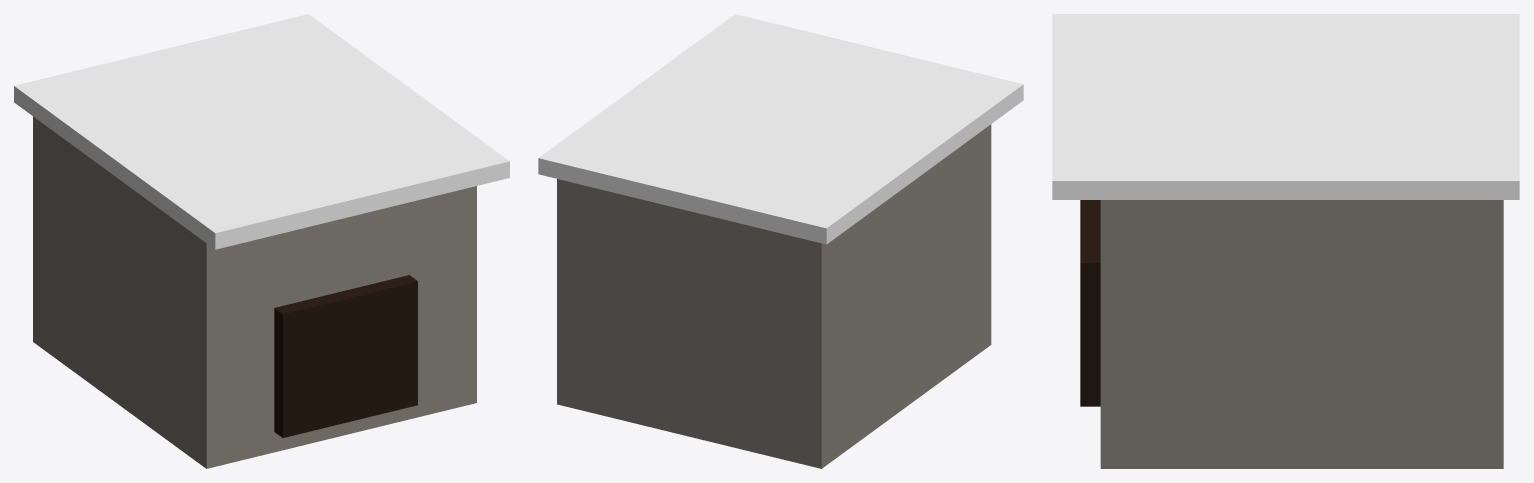
The model's file is fogon.glb.
3 views of the same model, side by side, from view 1: azimuth 30°, elevation 25°; view 2: azimuth 150°, elevation 25°; view 3: azimuth 270°, elevation 25° (orthographic). The views are drawn at different scales.
Parts seen in each view (by area): view 1: fogon; view 2: fogon; view 3: fogon.
Part boxes in pixels (x1,y1,x2,y2): fogon: (14, 14, 509, 468); fogon: (538, 14, 1023, 468); fogon: (1052, 14, 1519, 468).
Bounding box in the file's own units: 1.49 × 1.23 × 1.77.
